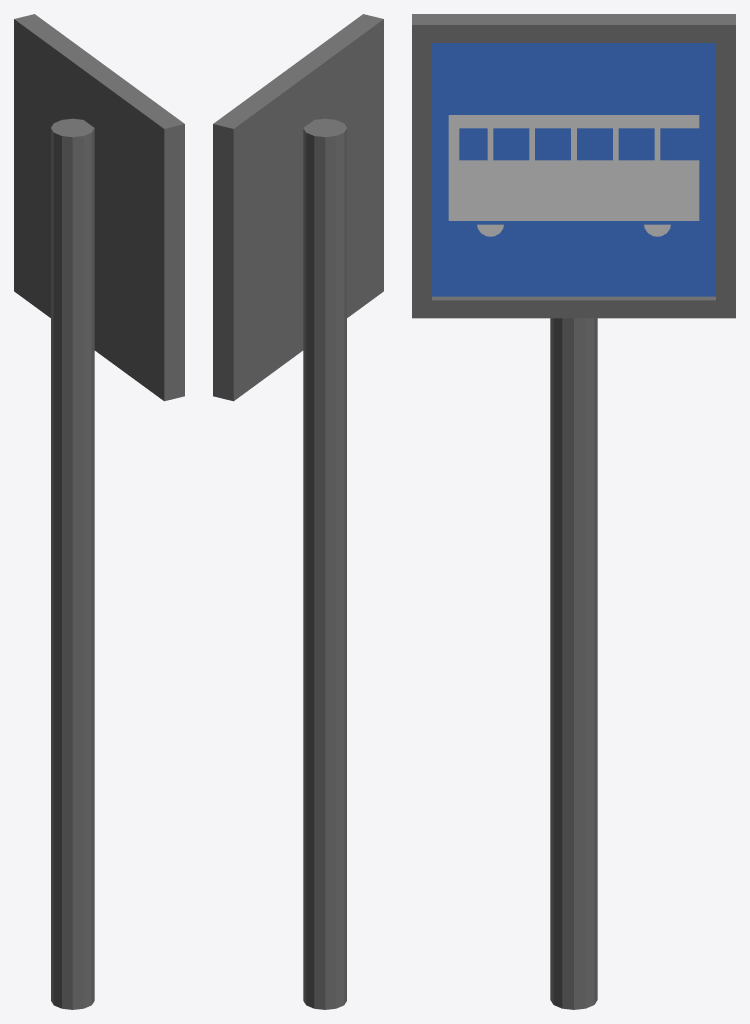
The model's file is przystanek.fbx.
The picture shows the model from 3 angles, left to right: view 1: azimuth 30°, elevation 25°; view 2: azimuth 150°, elevation 25°; view 3: azimuth 270°, elevation 25°; orthographic projection. The views are drawn at different scales.
Visible parts, largest first — view 1: Cylinder; view 2: Cylinder; view 3: Cylinder.
Boxes of the visible parts, x1,y1,x2,y2 form: Cylinder: [14, 14, 184, 1009]; Cylinder: [213, 14, 383, 1009]; Cylinder: [412, 14, 735, 1009].
Bounding box in the file's own units: 73.28 × 1153 × 340.
